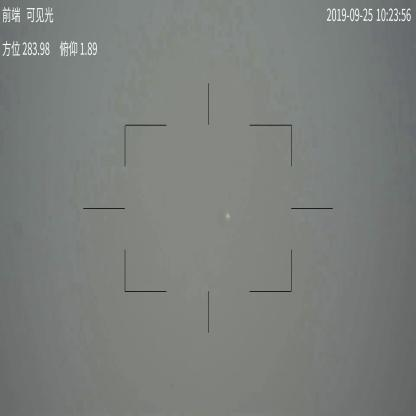uav: (224, 212, 231, 219)
